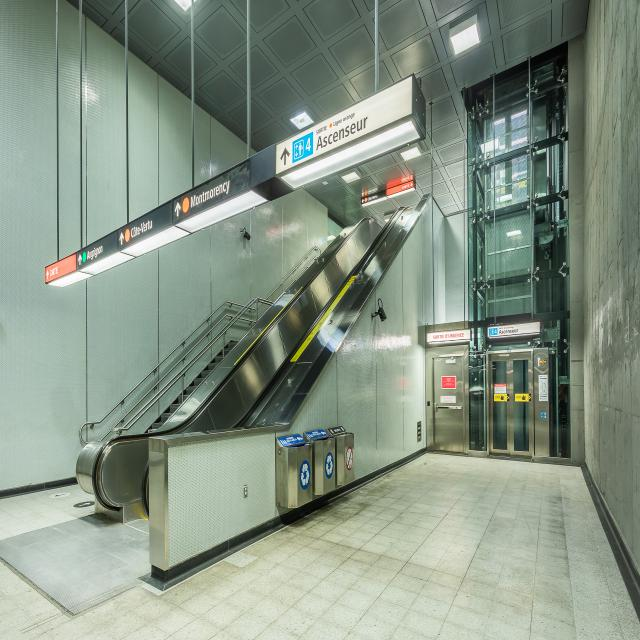elevator: (292, 137, 305, 164)
